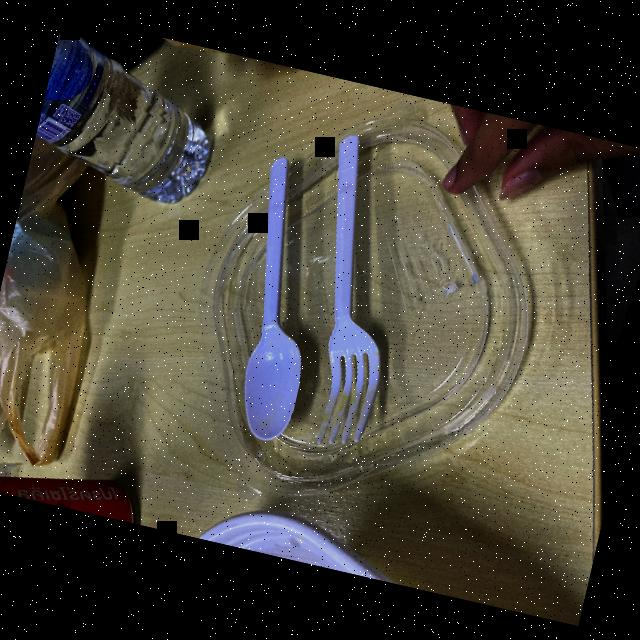plastic_cultery: (245, 113, 434, 456), (196, 142, 361, 456)
